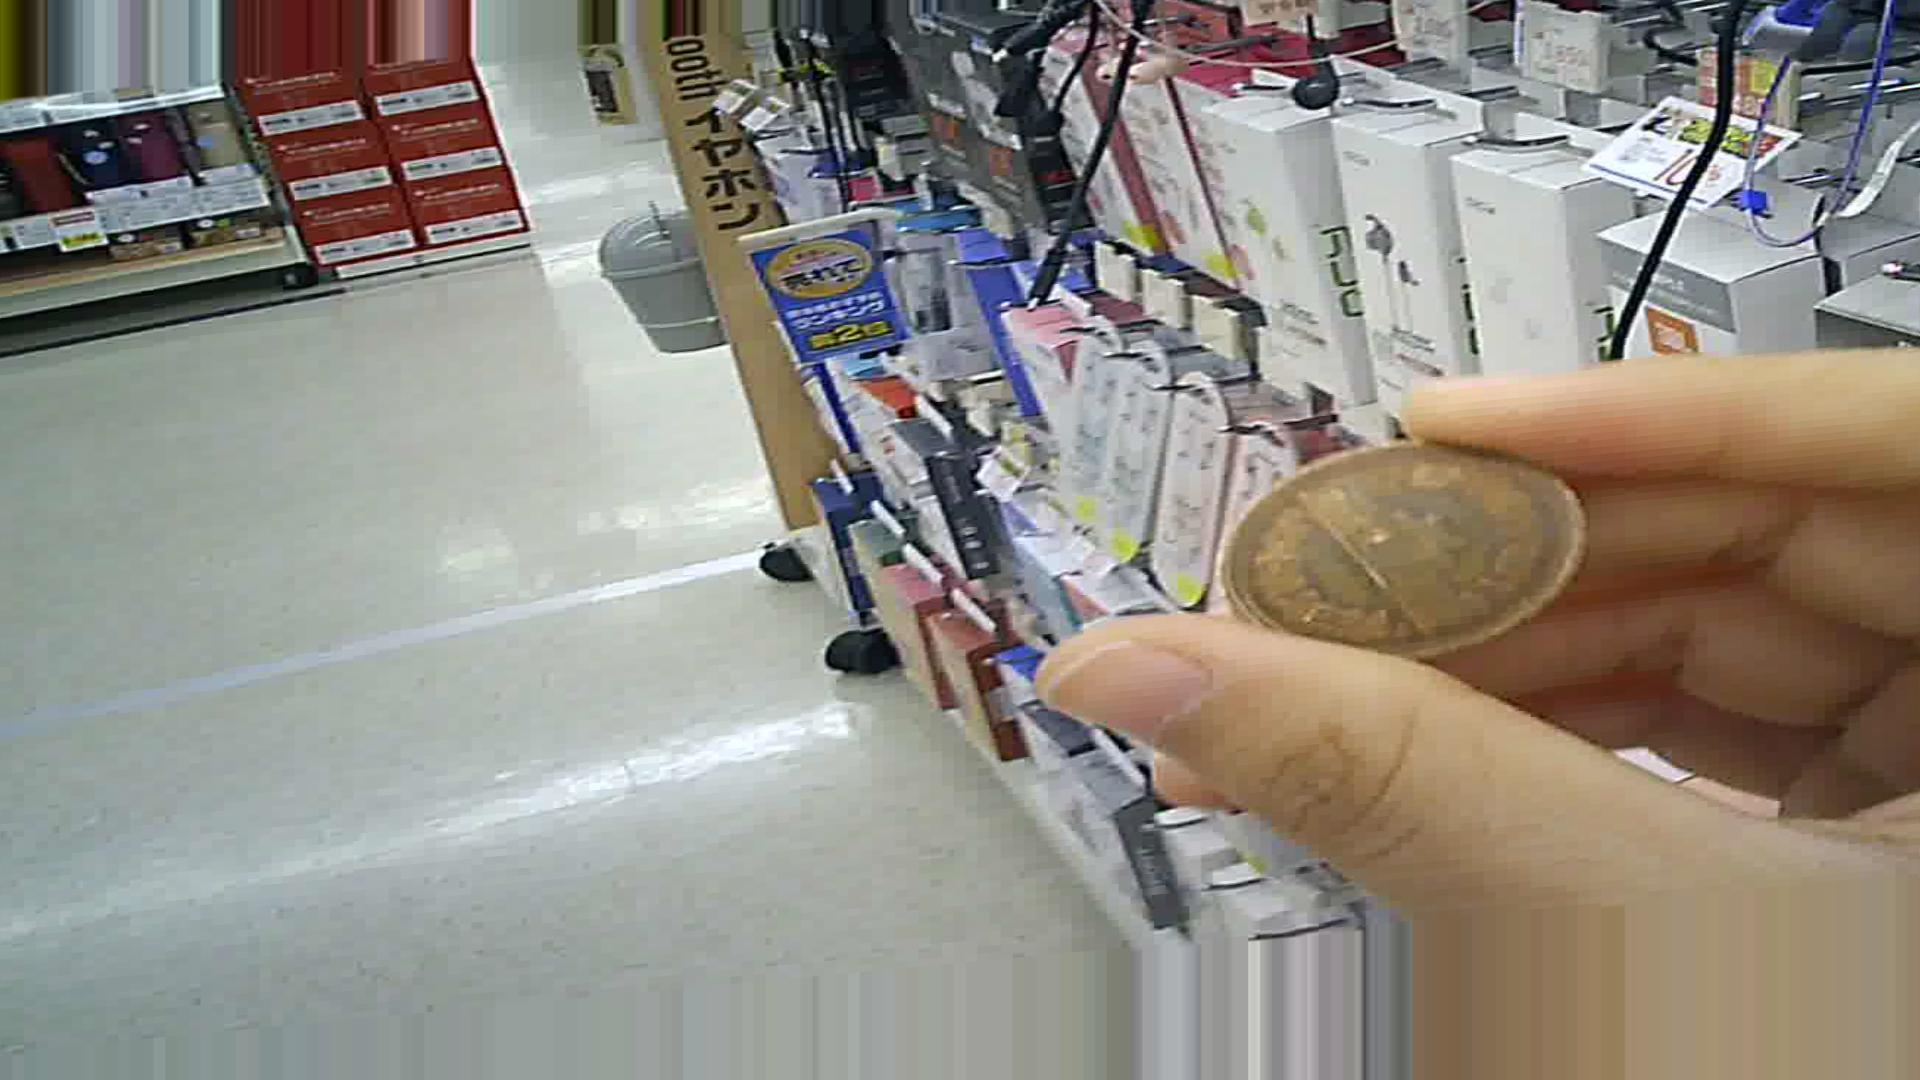10 Yen: (1222, 430, 1606, 653)
